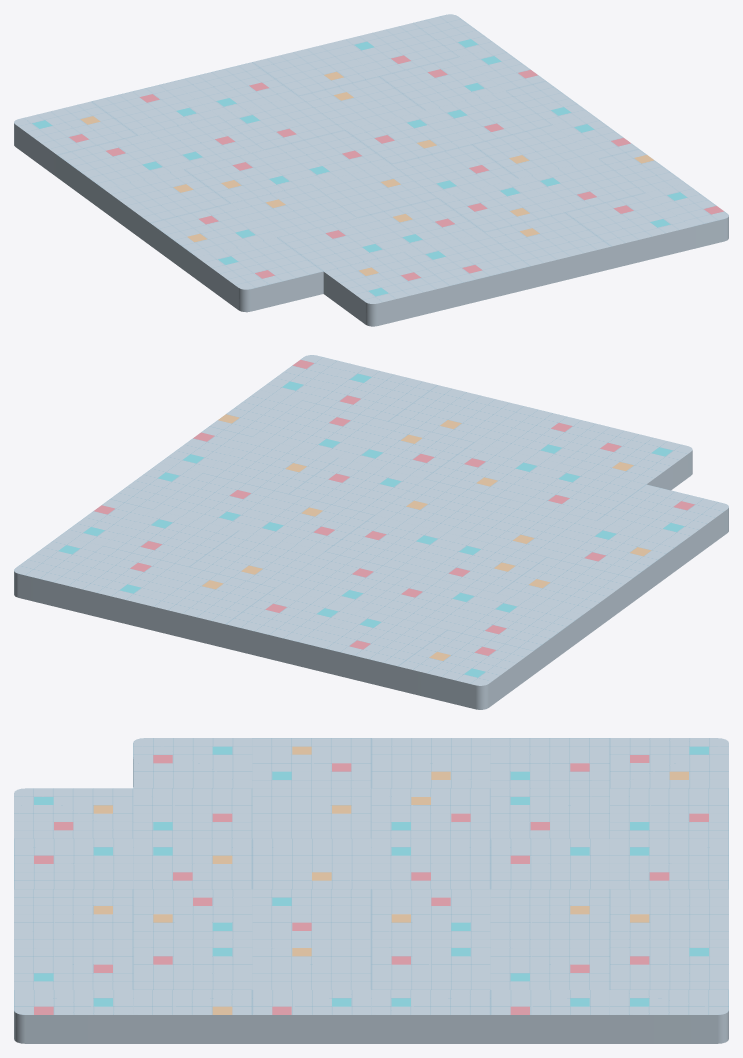
File: big_floor.fbx
The picture shows the model from 3 angles, top to bottom: view 1: azimuth 30°, elevation 25°; view 2: azimuth 150°, elevation 25°; view 3: azimuth 270°, elevation 25°; orthographic projection. The views are drawn at different scales.
Visible parts, largest first — view 1: big_floor_mesh; view 2: big_floor_mesh; view 3: big_floor_mesh.
Boxes of the visible parts, x1,y1,x2,y2 form: big_floor_mesh: (14,14,728,326); big_floor_mesh: (14,355,728,709); big_floor_mesh: (14,738,728,1043).
Size of the model in its own units: 49.82 by 2.42 by 54.35.
